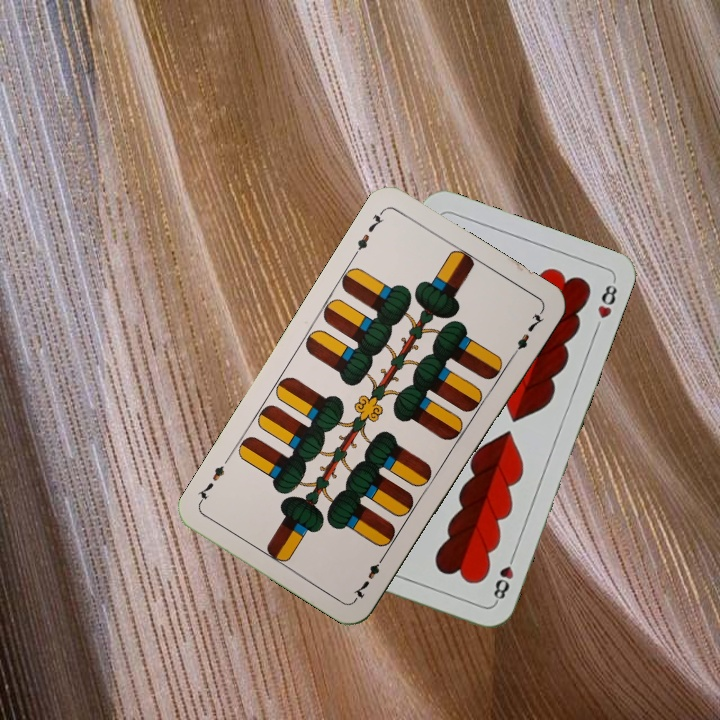E7: (349, 550, 389, 602), (349, 206, 387, 259)
H8: (489, 549, 518, 606)
